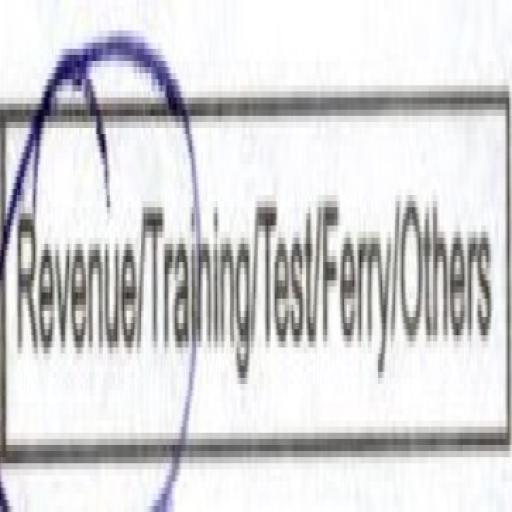check: (2, 61, 136, 512)
